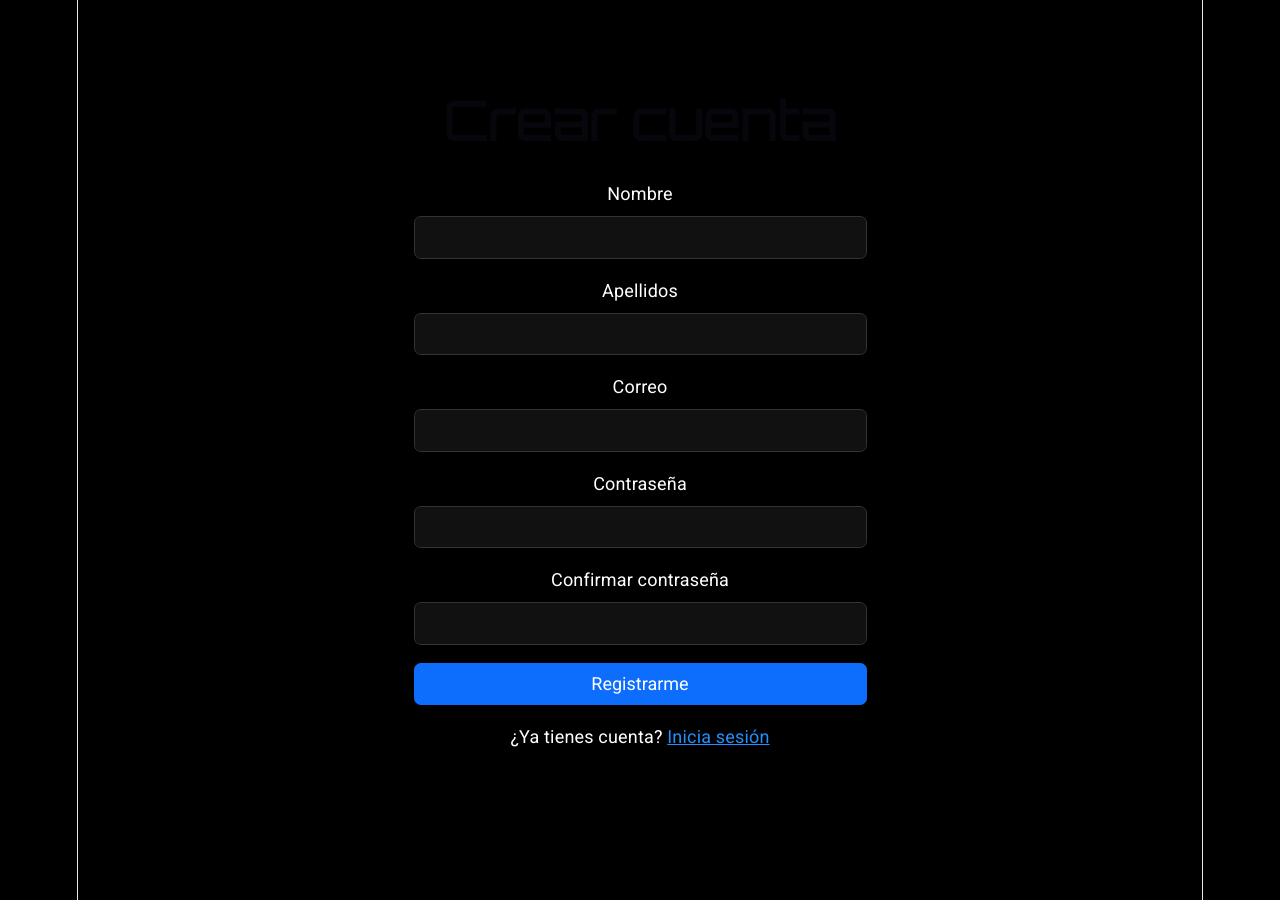
Registro › avisa si las contraseñas no coinciden
The image size is (1280, 900).
Type "123456" into the password field labelled "Contraseña" at (640, 527), box 414,506 -> 866,548
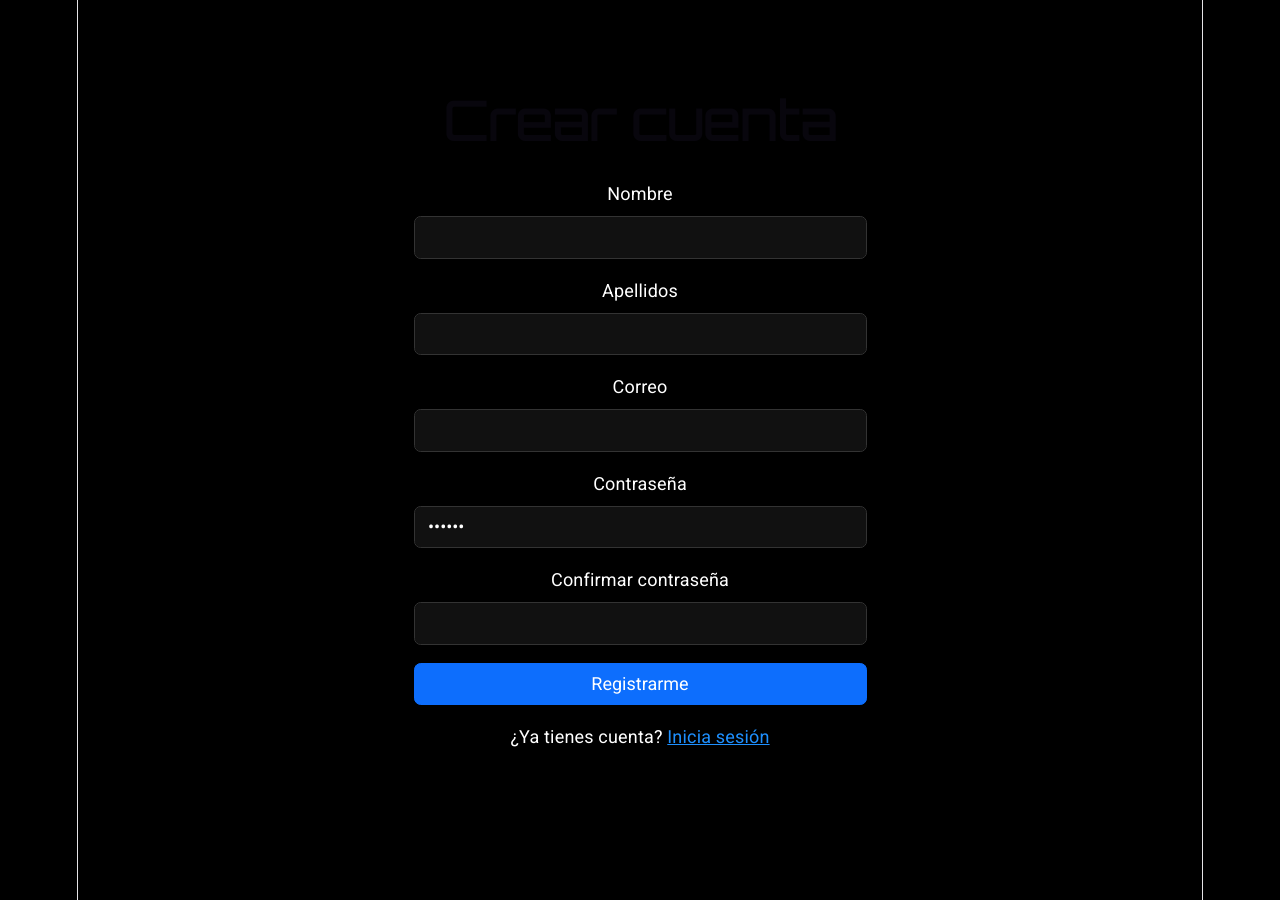
Type "abcdef" into the password field labelled "Confirmar contraseña" at (640, 623), box 414,602 -> 866,645
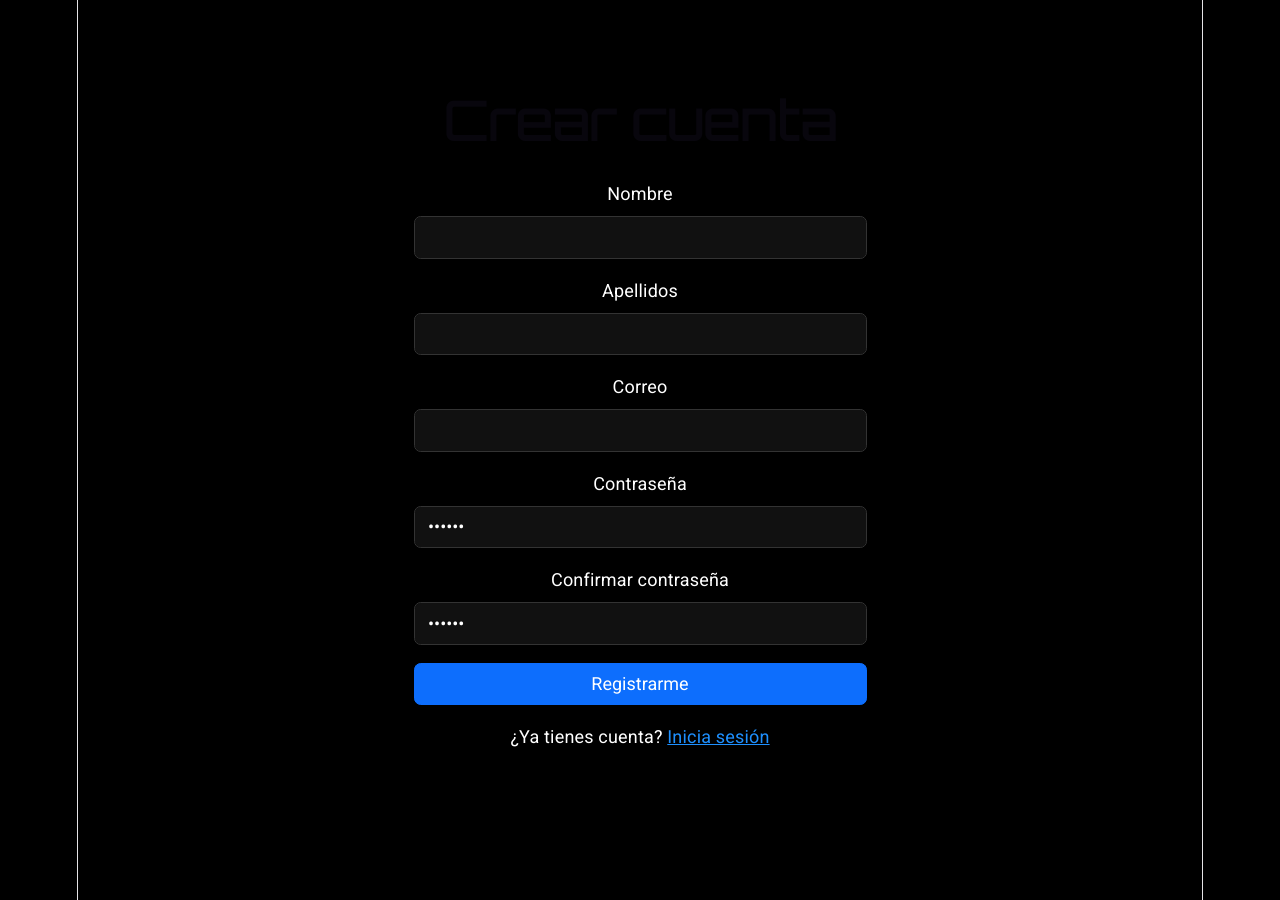
Click the button "Registrarme" at (640, 684), box 414,663 -> 866,705
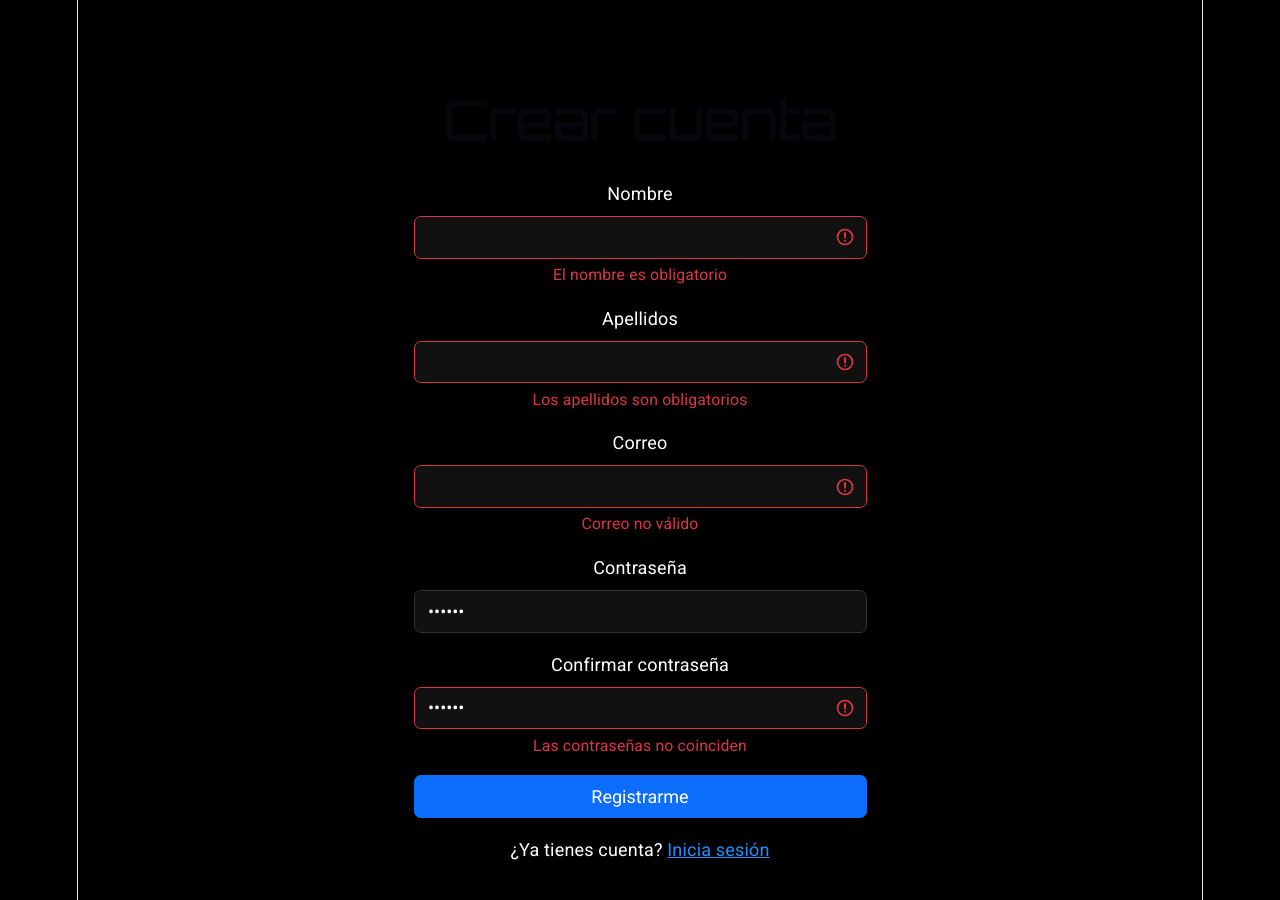
Result: the text "Las contraseñas no coinciden" is shown at 533,736 -> 747,755
